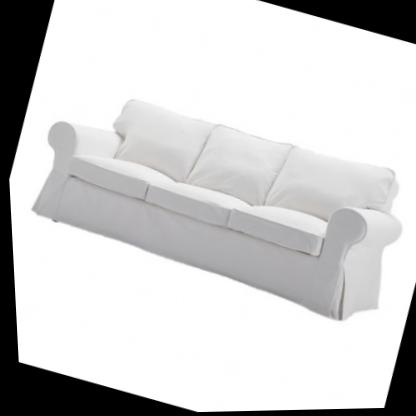Sofa: (9, 65, 416, 342)
